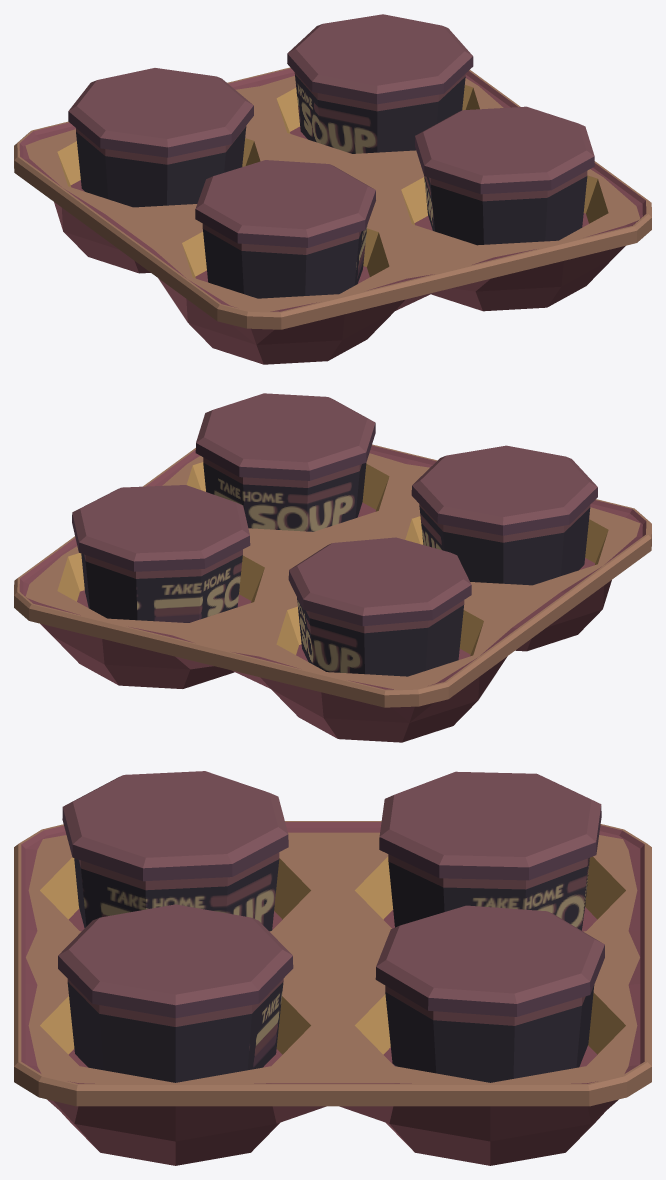
Rendered from Carryable_Soup_4.fbx.
3 renders of one model, top to bottom at view 1: azimuth 30°, elevation 25°; view 2: azimuth 150°, elevation 25°; view 3: azimuth 270°, elevation 25°, orthographic. The views are drawn at different scales.
Parts seen in each view (by area): view 1: Carryable_Soup_4; view 2: Carryable_Soup_4; view 3: Carryable_Soup_4.
Boxes of the visible parts, bbox=[...] form: Carryable_Soup_4: bbox=[14, 14, 651, 364]; Carryable_Soup_4: bbox=[14, 393, 651, 742]; Carryable_Soup_4: bbox=[14, 771, 651, 1165].
Bounding box in the file's own units: 122 × 36.24 × 122.
